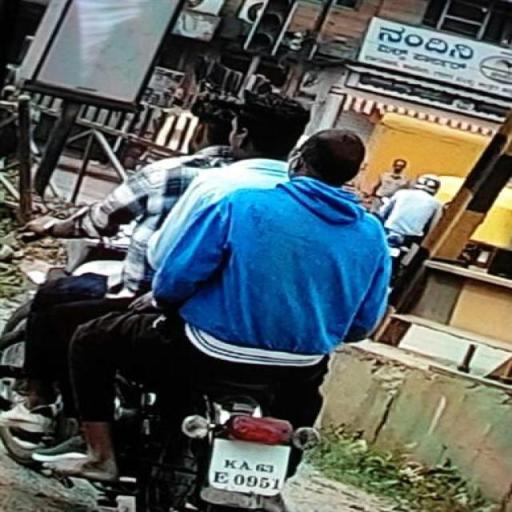tripple riding: (8, 90, 408, 383)
